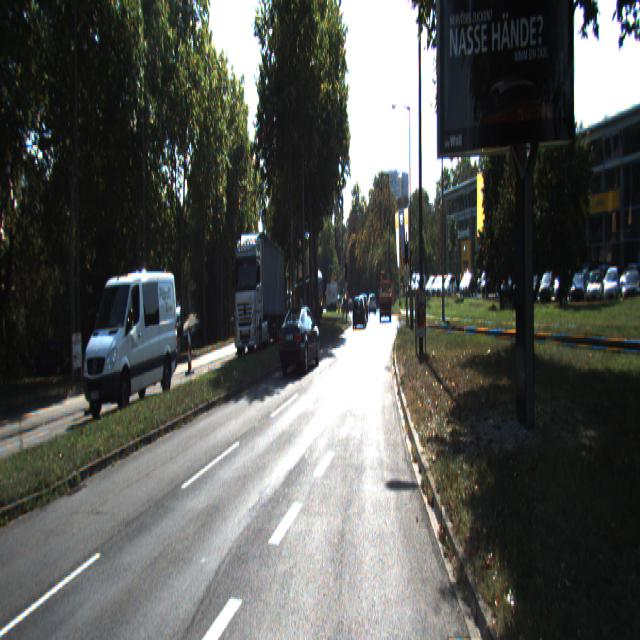Car: (82, 265, 181, 419), (234, 232, 286, 359), (278, 304, 322, 374), (379, 278, 392, 321), (352, 296, 367, 330)
